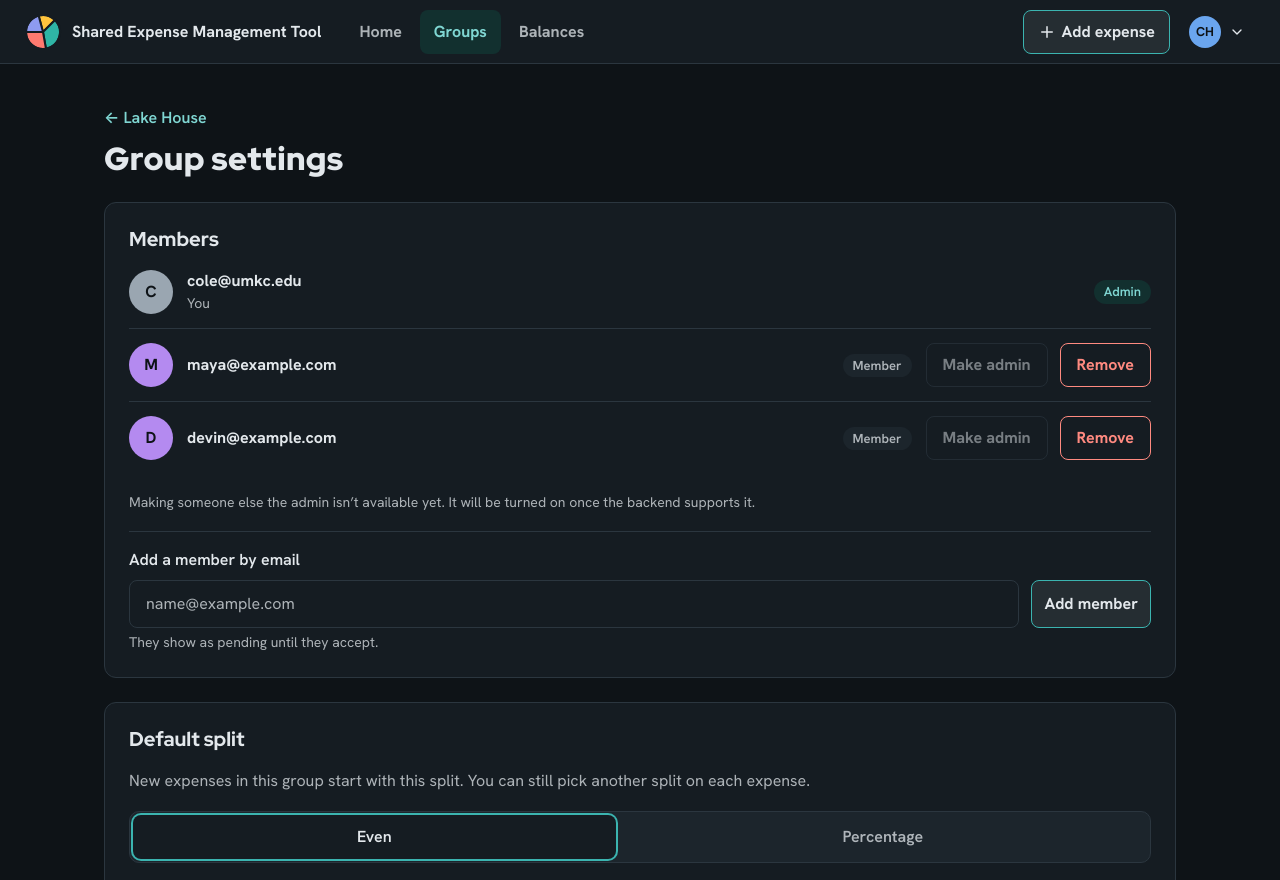
Test case: Group settings: remove a member › removes a member with no balance right away
Check: the heading "Group settings" is shown, box [104,137,343,180]
Check: the text "maya@example.com" is shown, box [187,354,336,375]
Click the button with aria-label "Remove maya@example.com from Lake House" at coordinates (1105, 365), box [1060,343,1151,387]
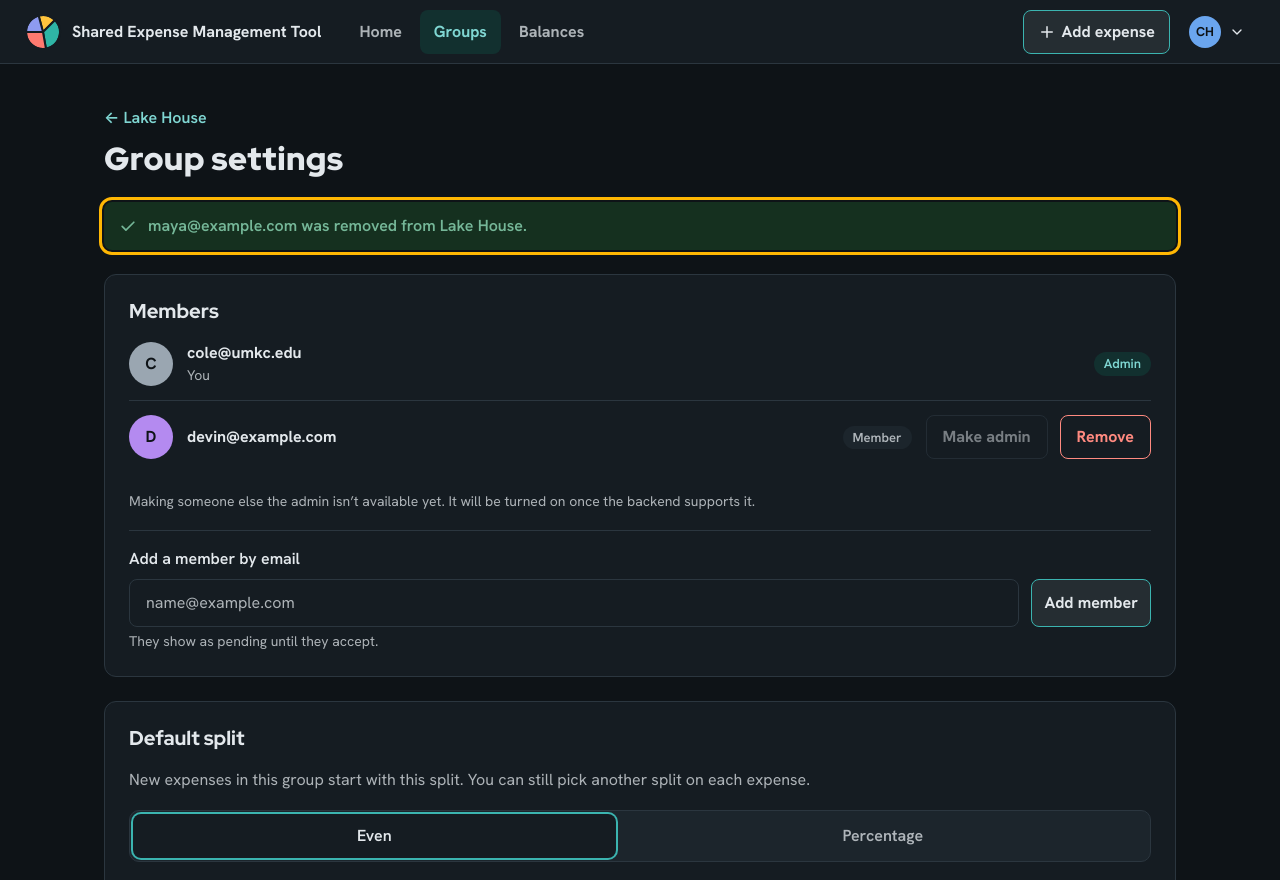
Check: the text "Member" is shown, box [842,426,912,449]
Check: the text "maya@example.com was removed from Lake House." is shown, box [148,214,527,238]
